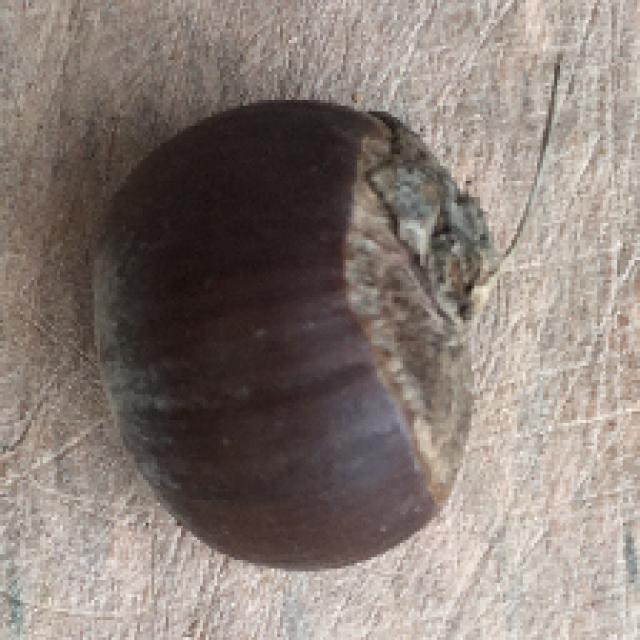damagedHazelnut: (93, 97, 488, 569)
